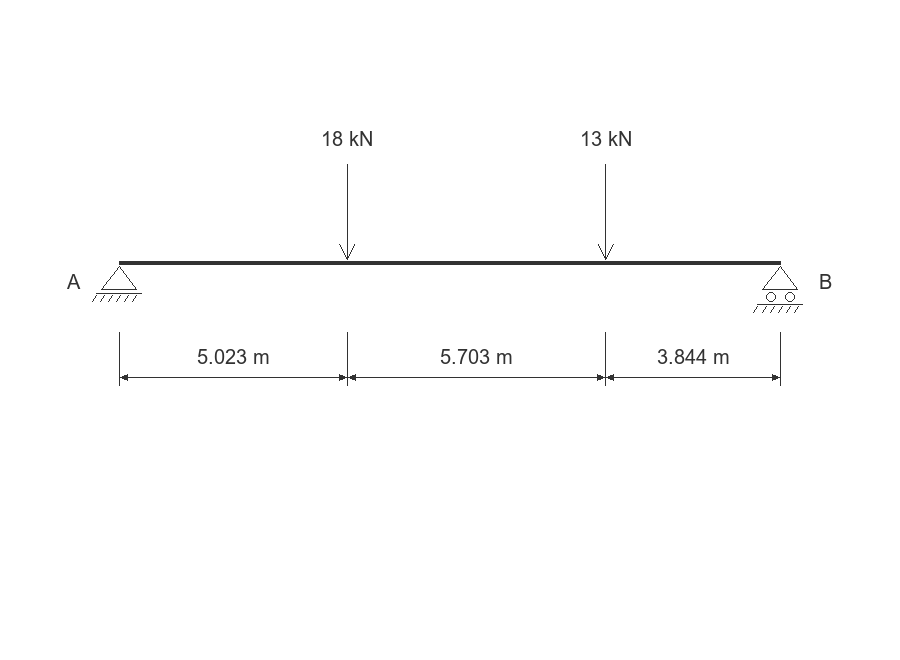pin_support: (92, 266, 142, 302)
point_load: (339, 164, 355, 260), (598, 164, 614, 260)
roller_support: (753, 266, 803, 313)
